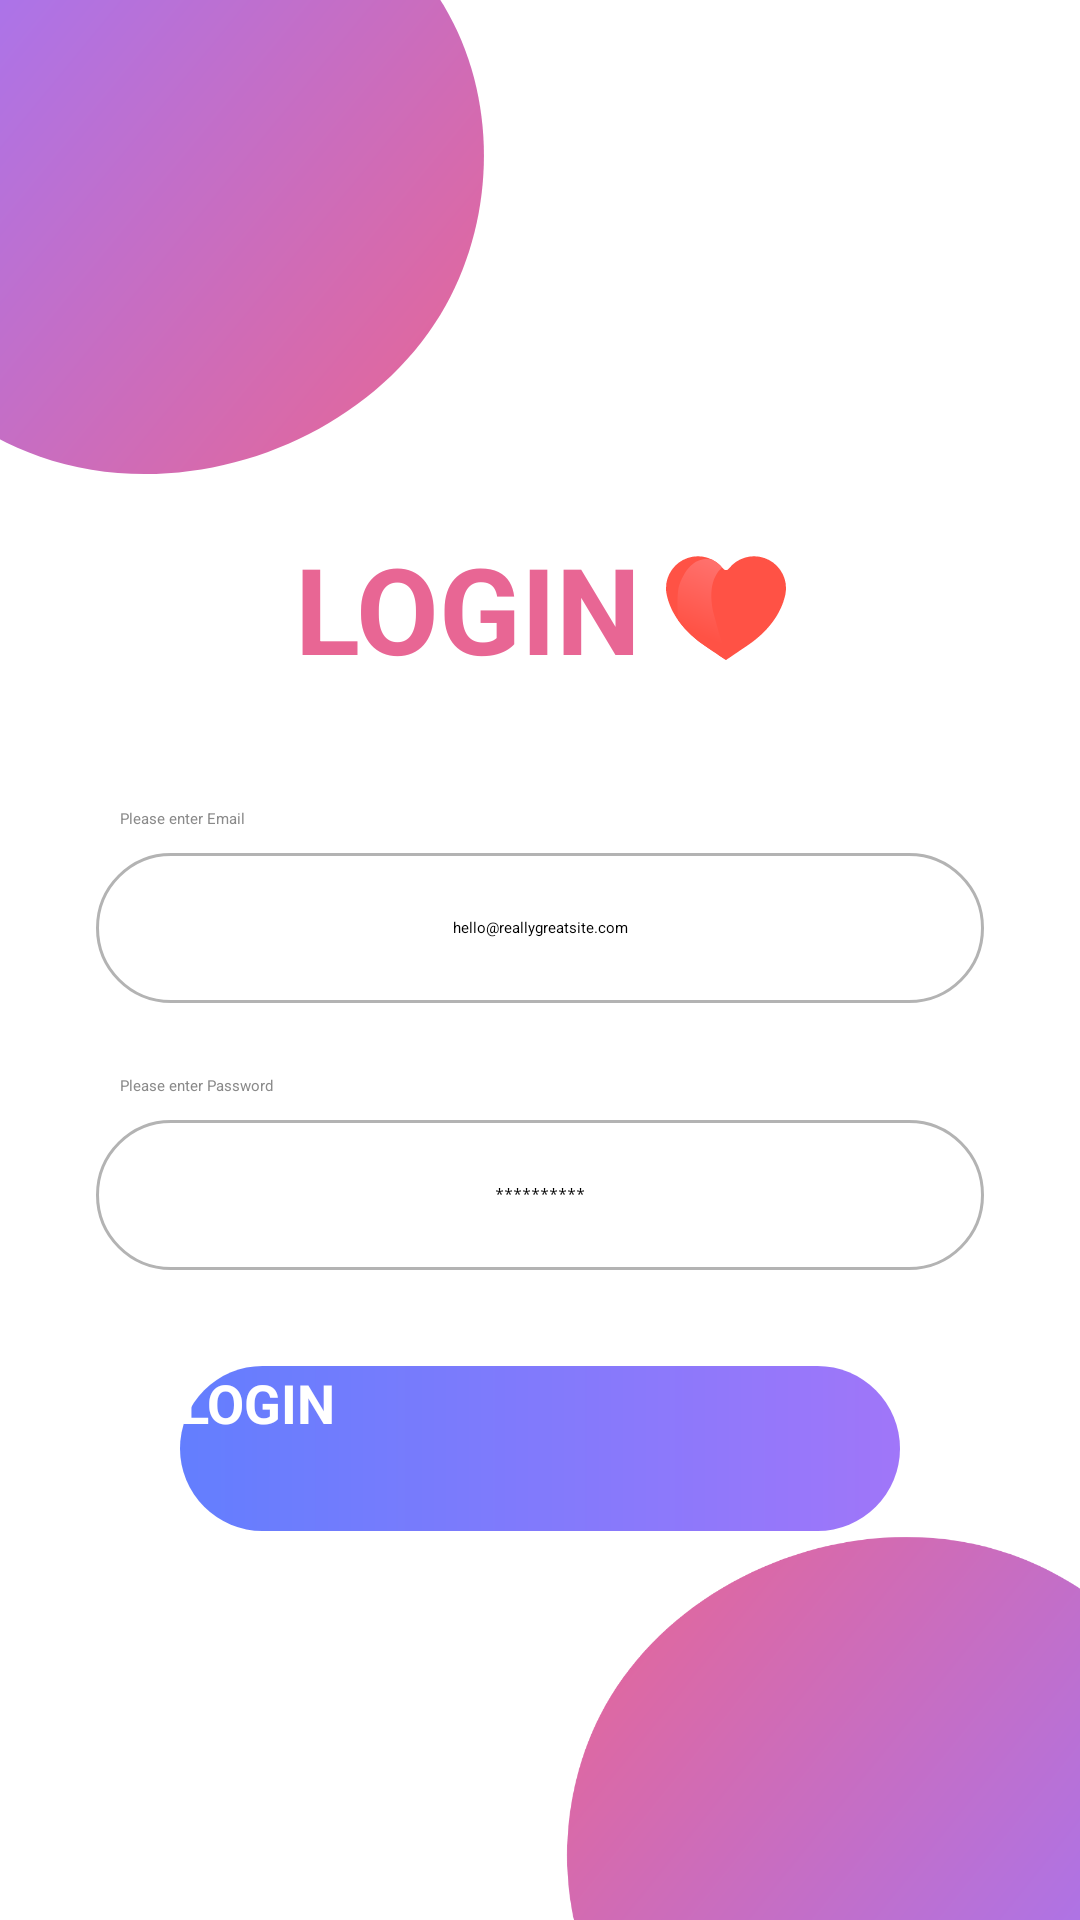

Named icons in this screenshot (1080*1920) and their centers, [x,y]:
heart: [726,608]
